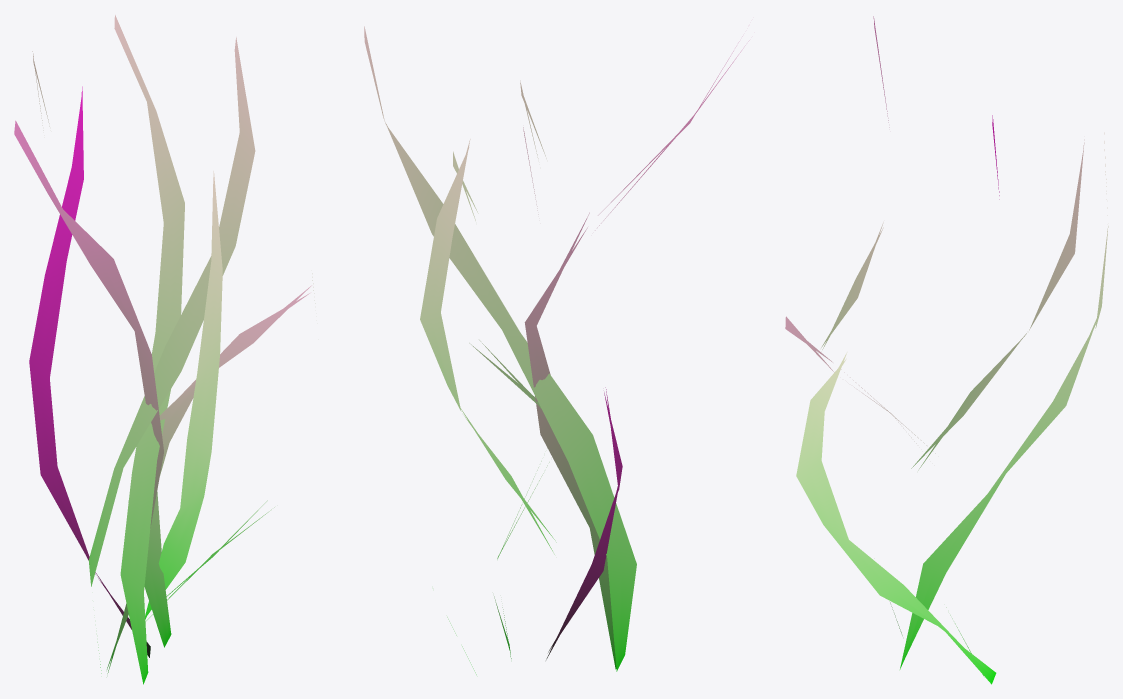
Rendered from seaweed_b_lod.glb.
3 renders of one model, left to right at view 1: azimuth 30°, elevation 25°; view 2: azimuth 150°, elevation 25°; view 3: azimuth 270°, elevation 25°, orthographic. The views are drawn at different scales.
Visible parts, largest first — view 1: Sea_B_LOD; view 2: Sea_B_LOD; view 3: Sea_B_LOD.
Part boxes in pixels (x1,y1,x2,y2): Sea_B_LOD: [14, 15, 315, 684]; Sea_B_LOD: [364, 26, 749, 674]; Sea_B_LOD: [785, 16, 1108, 684].
Size of the model in its own units: 0.8517 by 1.7 by 0.8542.
